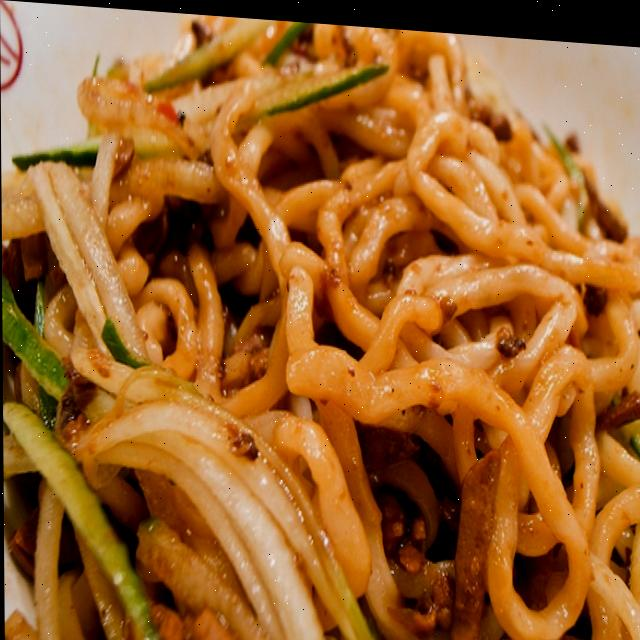面条主食: (1, 1, 640, 640)
